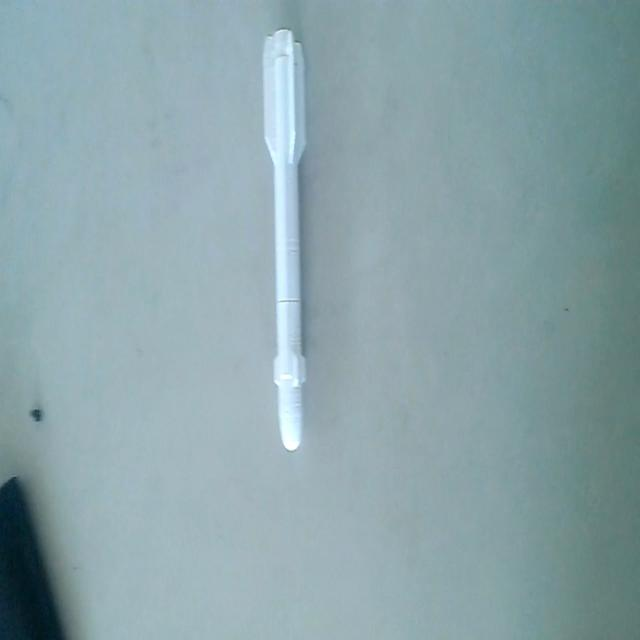Rocket: (260, 23, 312, 458)
